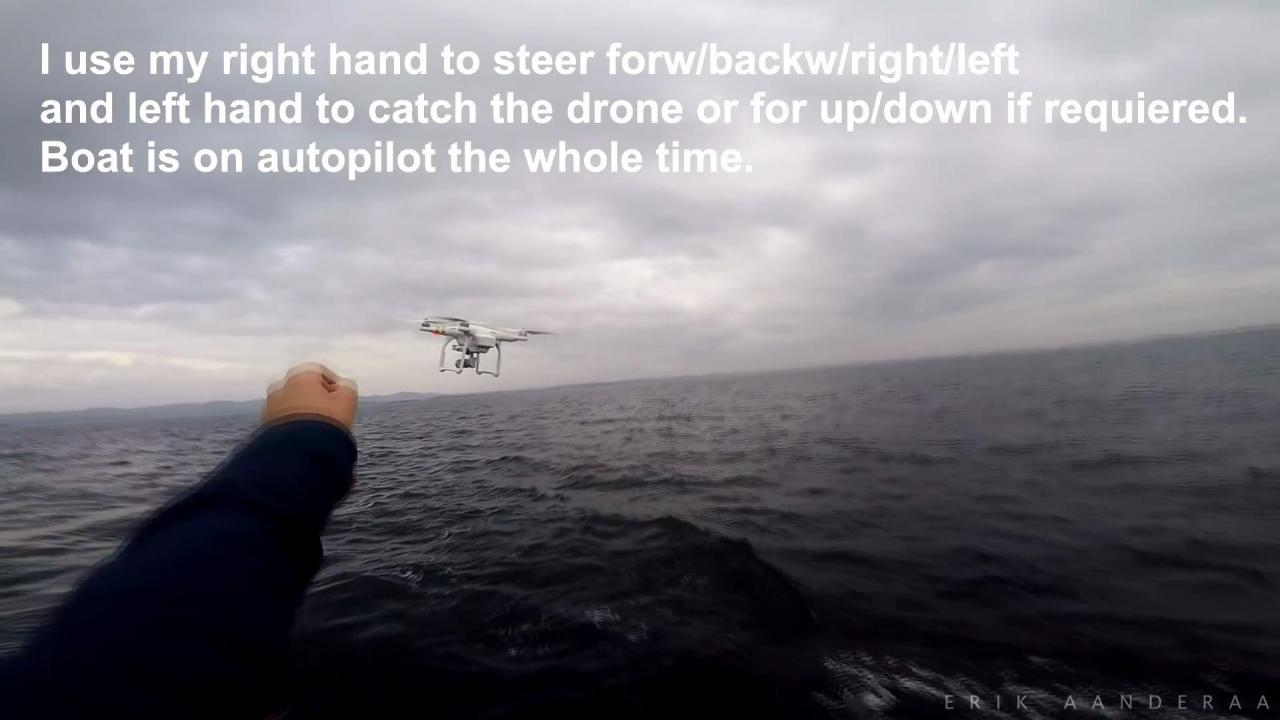Drone: (412, 307, 561, 383)
